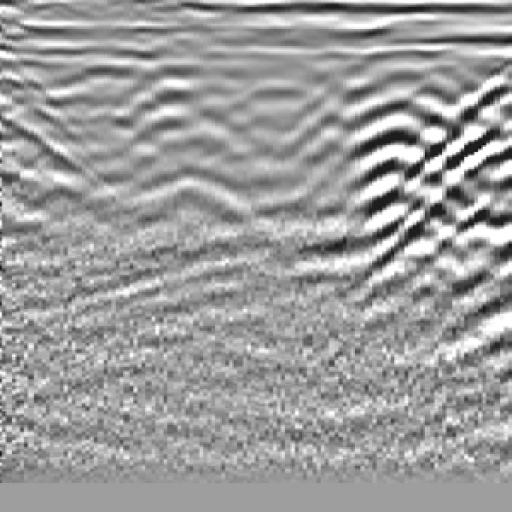metalic: (91, 27, 295, 294)
nonmetalic: (368, 37, 512, 303)
